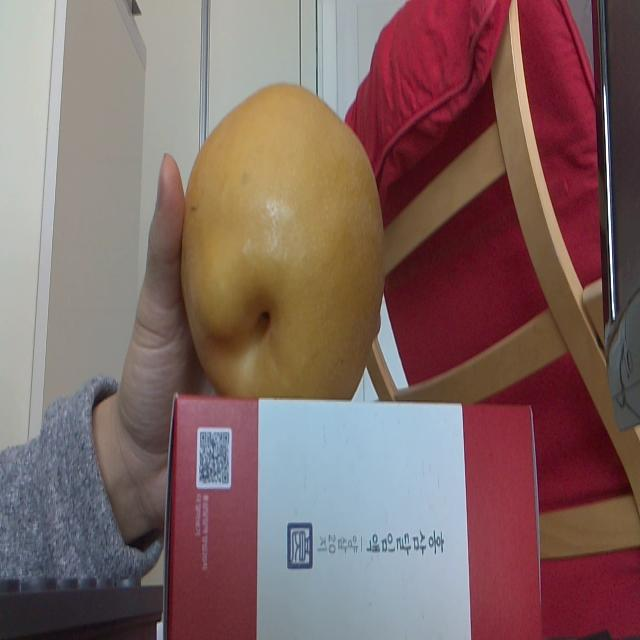pear: (184, 76, 386, 398)
